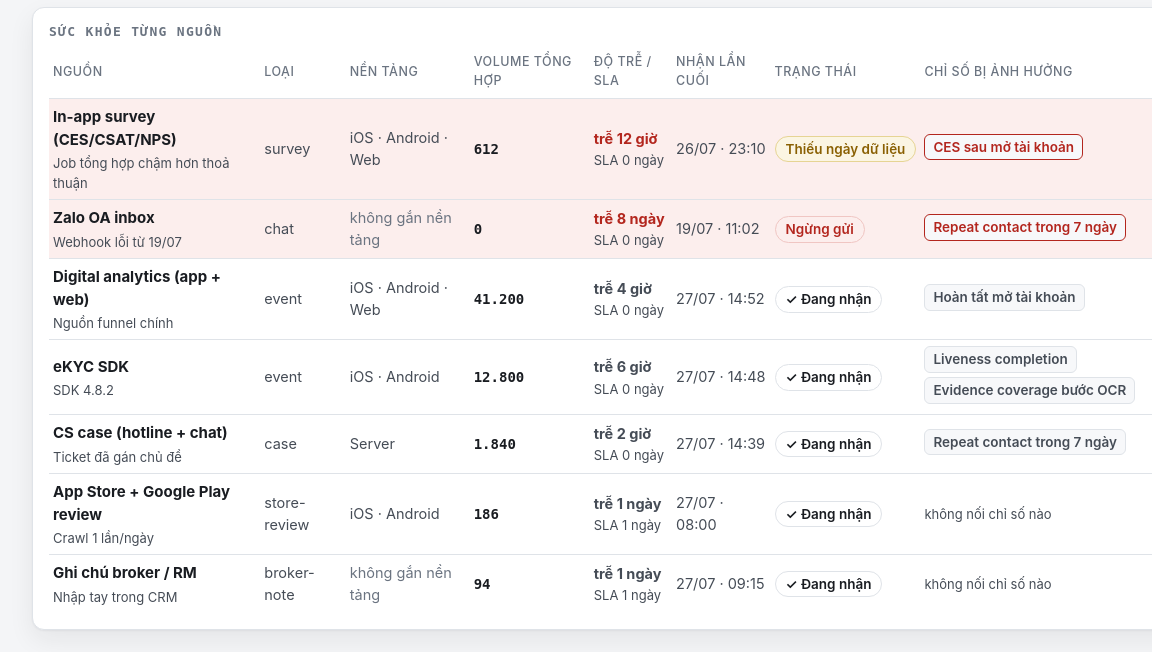
it: SourceProfile — hai mẫu số không được gộp › dải mẫu số nói rõ đang đếm bằng chứng mẫu; volume nguồn khai đọc ở Stat riêng, không gộp vào cùng câu
(page scrolled)
Click the row that starts with "Digital analytics (app + web)": point(600, 299) [49,258,1151,340]
(page scrolled)
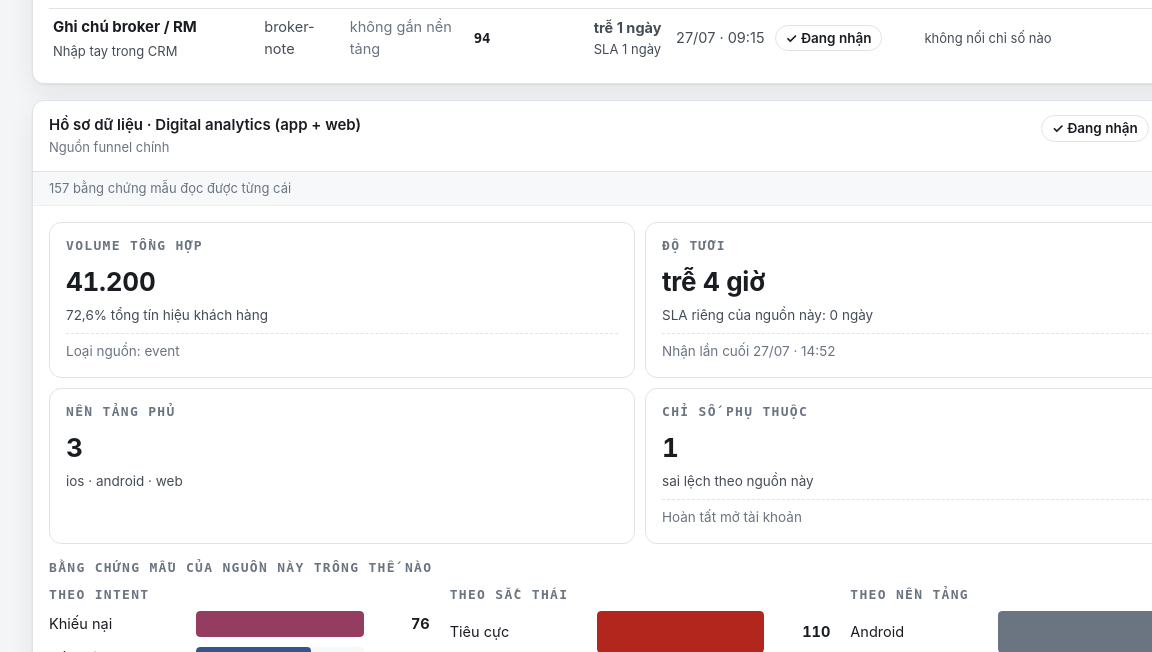
Expected: the text with test id "src-profile-denom" does not show "41.200", [49,180,291,196]
Expected: the element with test id "stat" shows "41.200", [66,266,156,296]
